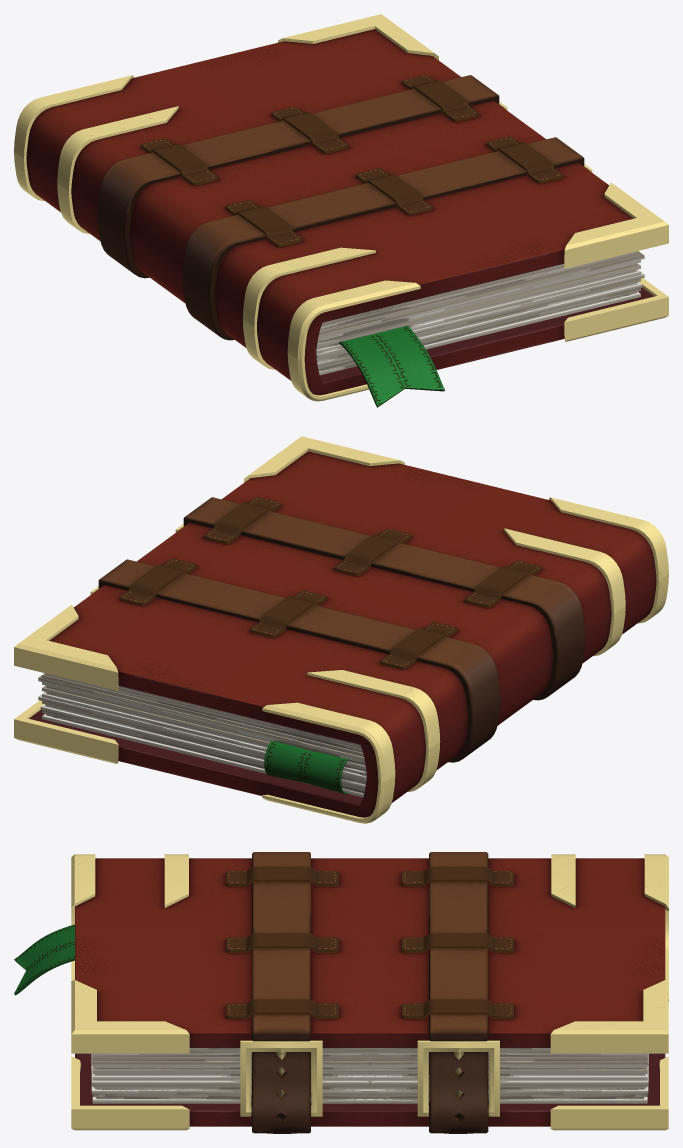
Rendered from old_hardcover_book.glb.
3 views of the same model, one above another, from view 1: azimuth 30°, elevation 25°; view 2: azimuth 150°, elevation 25°; view 3: azimuth 270°, elevation 25° (orthographic). The views are drawn at different scales.
Visible parts, largest first — view 1: Book, Couro Fivela, Detalhes Ferro, Book.001, Flaps, BezierCurve; view 2: Book, Couro Fivela, Detalhes Ferro, Book.001, Flaps, BezierCurve; view 3: Book, Couro Fivela, Detalhes Ferro, Book.001, Flaps, Fivela, BezierCurve.
Boxes of the visible parts, x1,y1,x2,y2 form: Book: (26, 29, 653, 395); Couro Fivela: (97, 75, 584, 340); Detalhes Ferro: (14, 14, 668, 401); Book.001: (316, 251, 644, 375); Flaps: (141, 75, 563, 247); BezierCurve: (339, 325, 444, 407); Book: (29, 451, 656, 817); Couro Fivela: (98, 497, 585, 762); Detalhes Ferro: (14, 436, 668, 823); Book.001: (38, 673, 366, 797); Flaps: (119, 497, 541, 669); BezierCurve: (264, 741, 348, 794); Book: (75, 858, 665, 1126); Couro Fivela: (251, 852, 488, 1133); Detalhes Ferro: (71, 854, 668, 1130); Book.001: (91, 1048, 648, 1103); Flaps: (226, 866, 514, 1018); Fivela: (240, 1040, 499, 1116); BezierCurve: (14, 924, 74, 995).
Bounding box in the file's own units: 503 × 128 × 703.
Materials: 7 (7 with a texture image).
